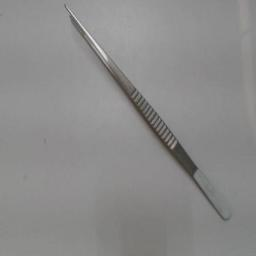DeBakey Dissector: (52, 4, 244, 240)
